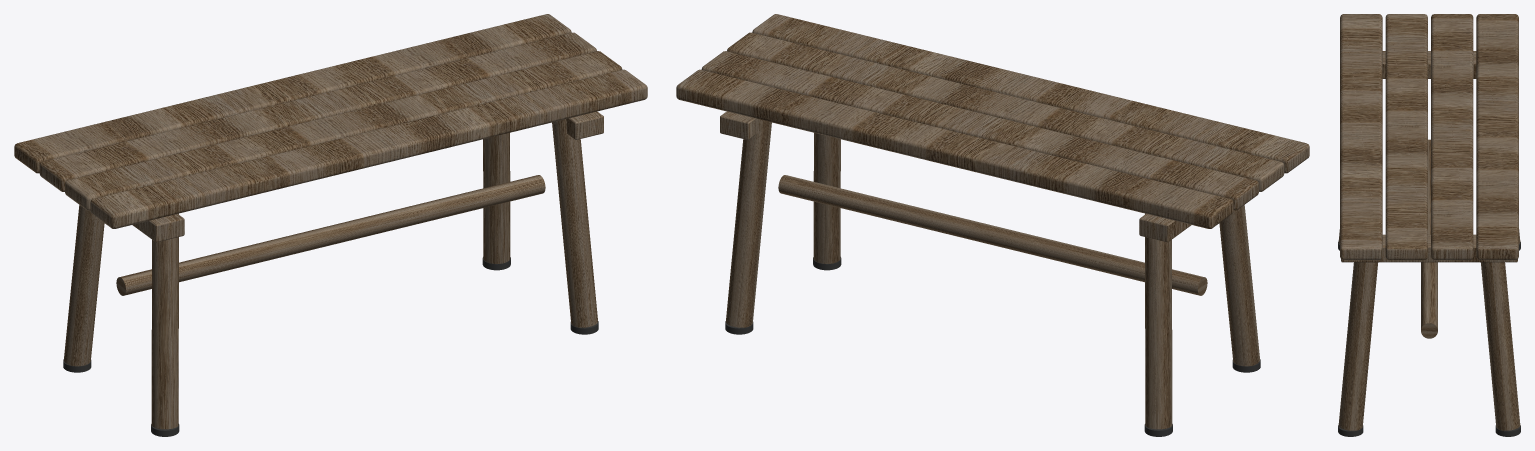
Rendered from detail-bench.glb.
3 renders of one model, left to right at view 1: azimuth 30°, elevation 25°; view 2: azimuth 150°, elevation 25°; view 3: azimuth 270°, elevation 25°, orthographic. The views are drawn at different scales.
Parts seen in each view (by area): view 1: 分片实木座板, 分片实木座板.003, 分片实木座板.001, 分片实木座板.002, 座下中央横档, 长凳外撇脚.002, 长凳外撇脚, 长凳外撇脚.001, 长凳外撇脚.003, 长凳横撑, 长凳横撑.001; view 2: 分片实木座板.003, 分片实木座板, 分片实木座板.002, 分片实木座板.001, 座下中央横档, 长凳外撇脚.003, 长凳外撇脚.001, 长凳外撇脚, 长凳外撇脚.002, 长凳横撑, 长凳横撑.001; view 3: 分片实木座板.001, 分片实木座板.002, 分片实木座板, 分片实木座板.003, 长凳外撇脚.002, 长凳外撇脚.003, 座下中央横档, 长凳横撑.001, 长凳横撑.
Part boxes in pixels (bbox=[...]): 分片实木座板: bbox=[90, 69, 647, 228]; 分片实木座板.003: bbox=[14, 14, 571, 173]; 分片实木座板.001: bbox=[65, 51, 622, 210]; 分片实木座板.002: bbox=[39, 32, 596, 191]; 座下中央横档: bbox=[116, 175, 545, 295]; 长凳外撇脚.002: bbox=[552, 119, 597, 327]; 长凳外撇脚: bbox=[151, 213, 178, 429]; 长凳外撇脚.001: bbox=[64, 205, 104, 366]; 长凳外撇脚.003: bbox=[483, 133, 510, 263]; 长凳横撑: bbox=[132, 214, 184, 242]; 长凳横撑.001: bbox=[566, 111, 603, 139]; 分片实木座板.003: bbox=[676, 69, 1233, 228]; 分片实木座板: bbox=[752, 14, 1309, 173]; 分片实木座板.002: bbox=[701, 51, 1258, 210]; 分片实木座板.001: bbox=[727, 32, 1284, 191]; 座下中央横档: bbox=[778, 175, 1207, 295]; 长凳外撇脚.003: bbox=[726, 119, 771, 327]; 长凳外撇脚.001: bbox=[1145, 213, 1172, 429]; 长凳外撇脚: bbox=[1219, 205, 1259, 366]; 长凳外撇脚.002: bbox=[813, 133, 840, 263]; 长凳横撑: bbox=[1139, 214, 1191, 242]; 长凳横撑.001: bbox=[720, 111, 757, 139]; 分片实木座板.001: bbox=[1385, 14, 1427, 260]; 分片实木座板.002: bbox=[1431, 14, 1473, 260]; 分片实木座板: bbox=[1340, 14, 1382, 260]; 分片实木座板.003: bbox=[1476, 14, 1518, 260]; 长凳外撇脚.002: bbox=[1338, 262, 1378, 430]; 长凳外撇脚.003: bbox=[1480, 262, 1520, 430]; 座下中央横档: bbox=[1421, 139, 1437, 338]; 长凳横撑.001: bbox=[1341, 234, 1517, 262]; 长凳横撑: bbox=[1382, 51, 1476, 78].
Size of the model in its own units: 1.1 by 0.458 by 0.362.
Materials: 2 (1 with a texture image).
